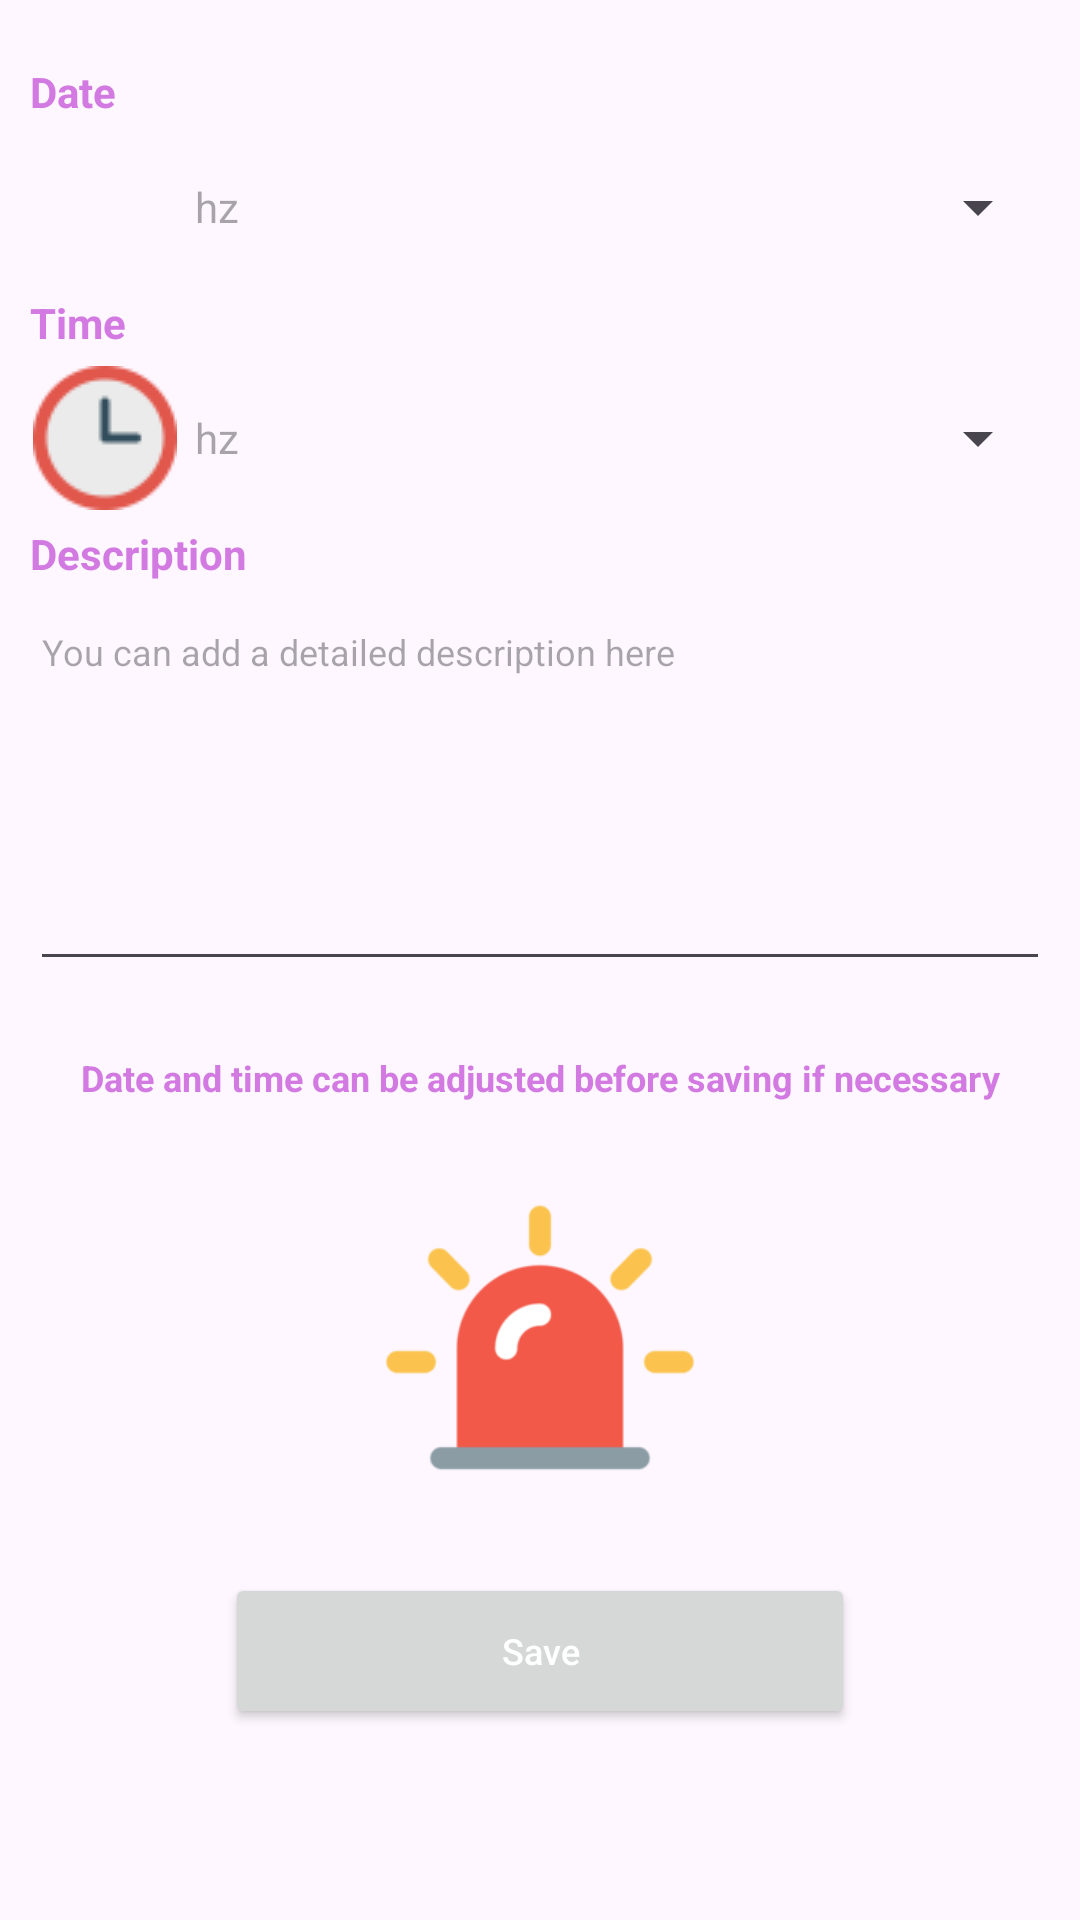

Locate icon controls on the screen. Image size 1080w x 1920h, boxes as detection(x1, y1, x2, y2).
clock: detection(33, 366, 177, 510)
emergency: detection(386, 1205, 694, 1470)
